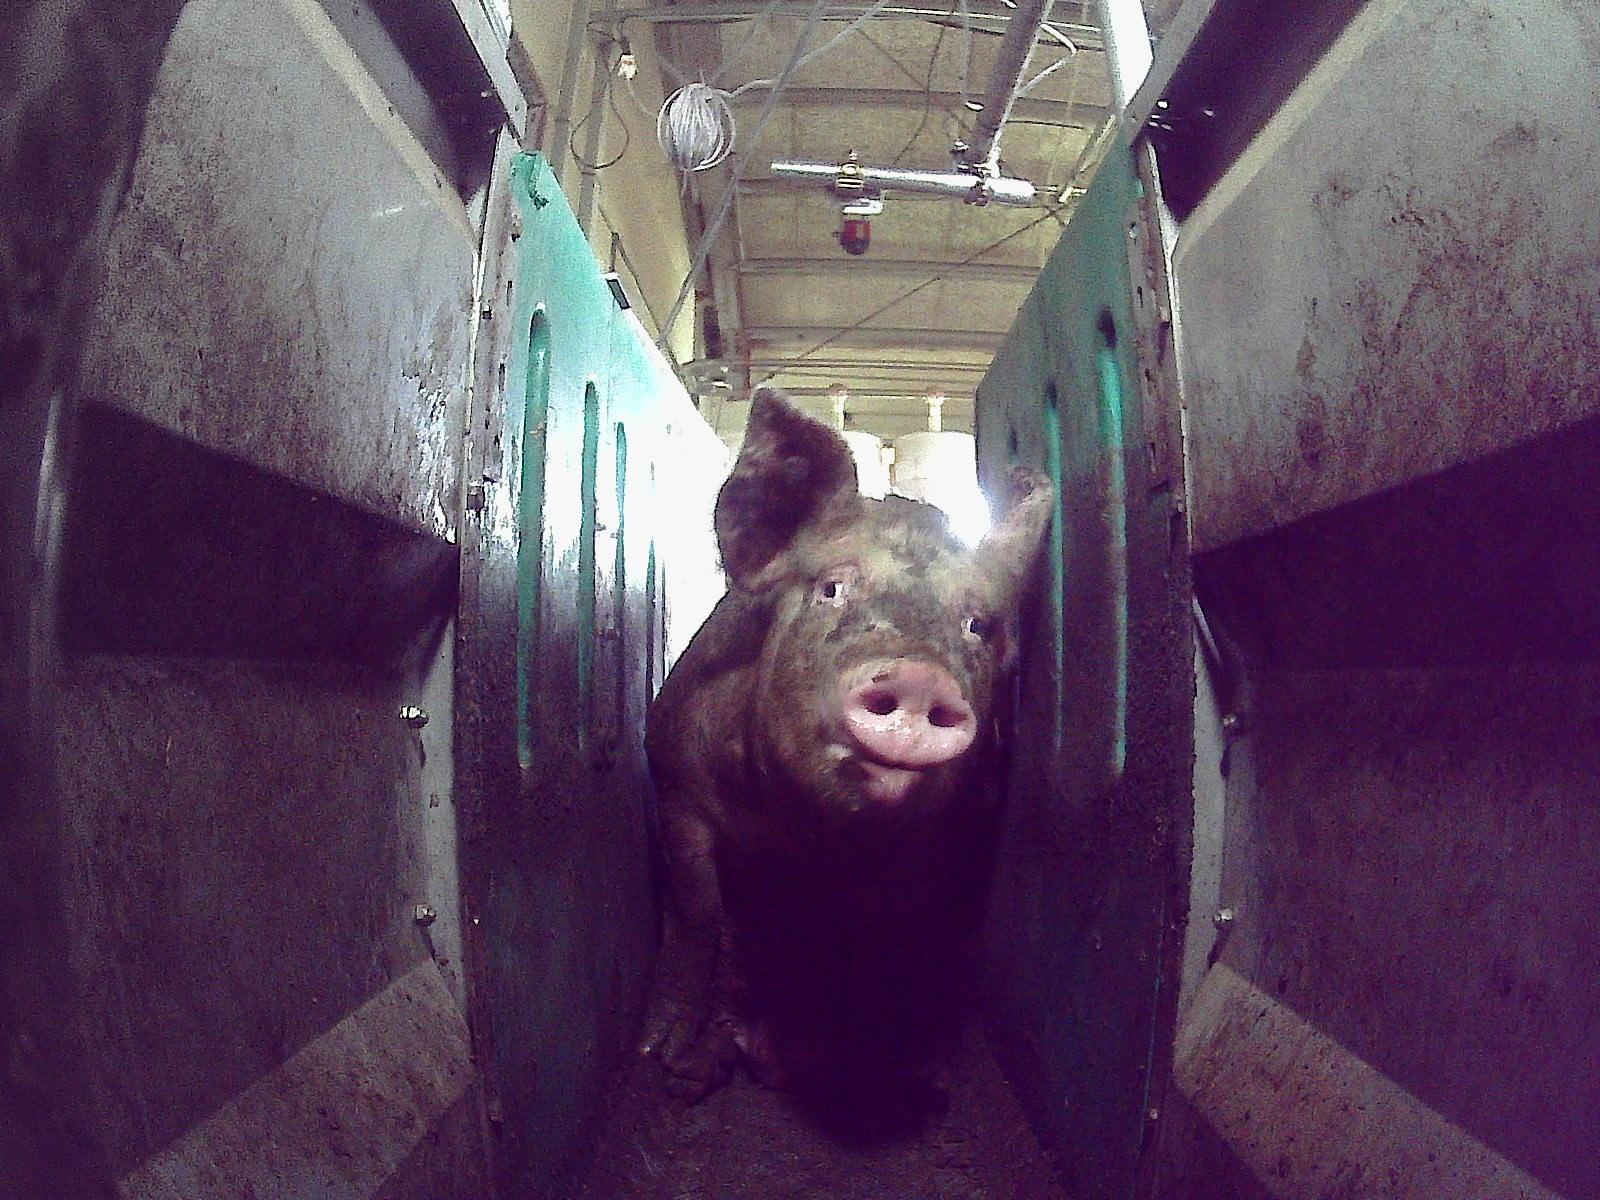Face: (734, 496, 1025, 823)
